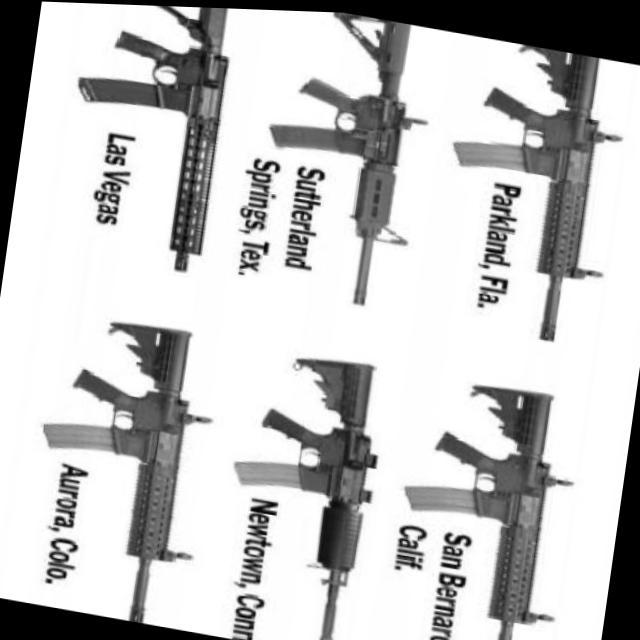weapon: (16, 305, 224, 630), (428, 30, 634, 344), (246, 7, 440, 309), (379, 365, 586, 640), (208, 337, 391, 640), (52, 1, 237, 272)
